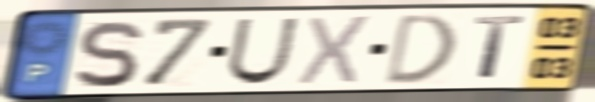7: (146, 16, 216, 90)
D: (381, 11, 460, 88)
S: (71, 18, 145, 90)
T: (472, 13, 528, 82)
U: (223, 16, 302, 87)
X: (294, 12, 375, 87)
